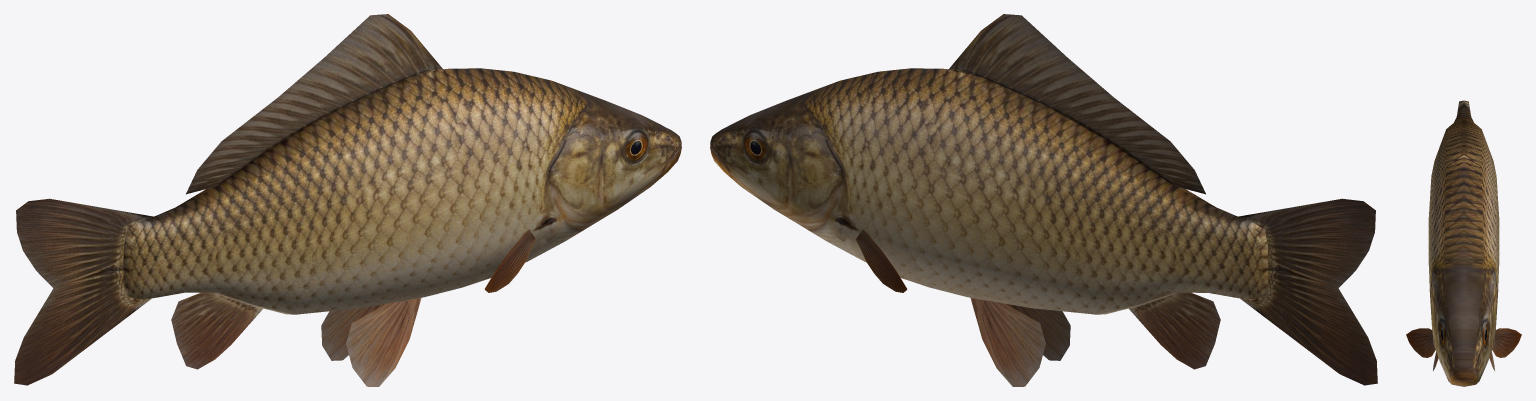
The model's file is CrucianCarp.glb.
The picture shows the model from 3 angles, left to right: view 1: azimuth 30°, elevation 25°; view 2: azimuth 150°, elevation 25°; view 3: azimuth 270°, elevation 25°; orthographic projection. The views are drawn at different scales.
Parts seen in each view (by area): view 1: CrucianCarp; view 2: CrucianCarp; view 3: CrucianCarp.
Boxes of the visible parts, x1=… form: CrucianCarp: x1=14, y1=14, x2=681, y2=386; CrucianCarp: x1=710, y1=14, x2=1377, y2=386; CrucianCarp: x1=1406, y1=100, x2=1521, y2=386.
Bounding box in the file's own units: 2 × 1.02 × 0.3507.
1 material, 1 textured.
